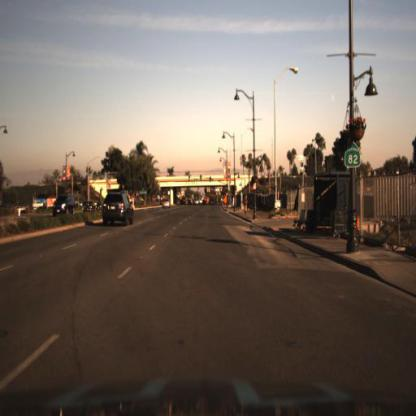biker: (244, 196, 249, 217)
car: (100, 189, 134, 229), (51, 189, 78, 220), (84, 201, 98, 216), (162, 194, 173, 210)
